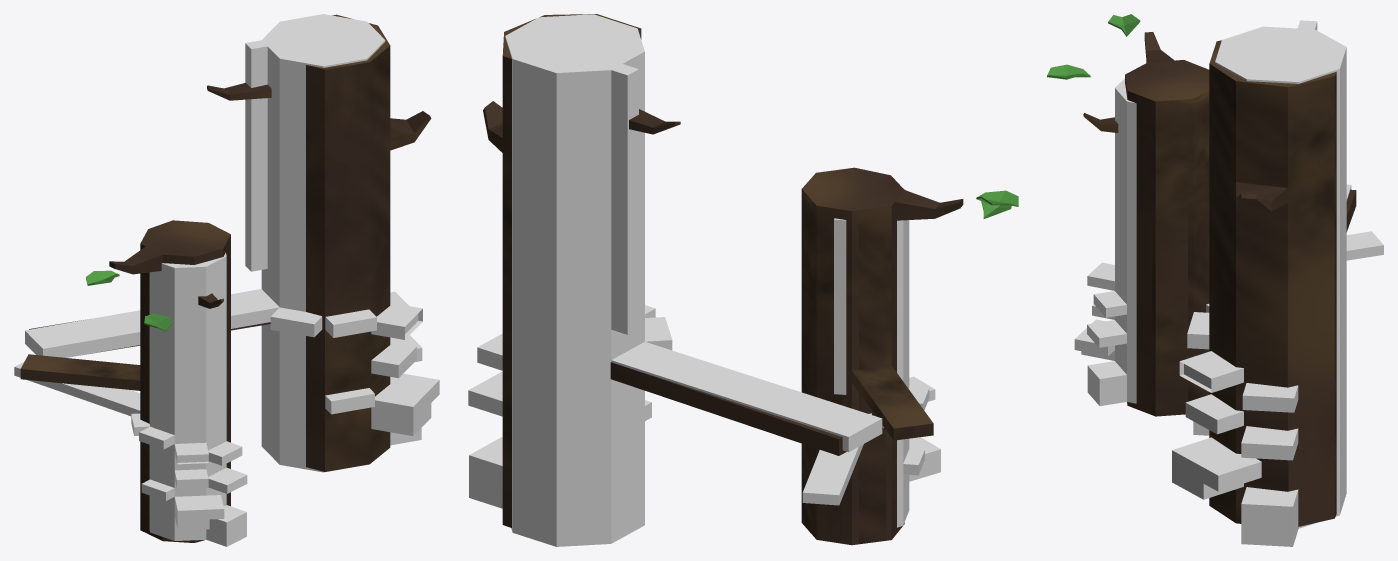
File: twologs.fbx
3 renders of one model, left to right at view 1: azimuth 30°, elevation 25°; view 2: azimuth 150°, elevation 25°; view 3: azimuth 270°, elevation 25°, orthographic. The views are drawn at different scales.
Visible parts, largest first — view 1: Cylinder.349, Cube, Cylinder.356, Cube.001; view 2: Cylinder.349, Cube.001, Cube, Cylinder.356; view 3: Cube, Cylinder.349, Cube.001, Cylinder.356, Plane.001, Plane.
Part boxes in pixels (bbox=[...]): Cylinder.349: bbox=[25, 14, 439, 472]; Cube: bbox=[29, 14, 431, 471]; Cylinder.356: bbox=[14, 252, 247, 546]; Cube.001: bbox=[20, 220, 230, 542]; Cylinder.349: bbox=[468, 14, 882, 546]; Cube.001: bbox=[801, 167, 963, 545]; Cube: bbox=[483, 14, 846, 527]; Cylinder.356: bbox=[802, 188, 940, 527]; Cube: bbox=[1209, 40, 1356, 526]; Cylinder.349: bbox=[1172, 20, 1351, 546]; Cube.001: bbox=[1083, 32, 1209, 416]; Cylinder.356: bbox=[1074, 78, 1383, 405]; Plane.001: bbox=[1047, 64, 1090, 79]; Plane: bbox=[1108, 14, 1140, 36].
Size of the model in its own units: 743 by 724 by 495.
